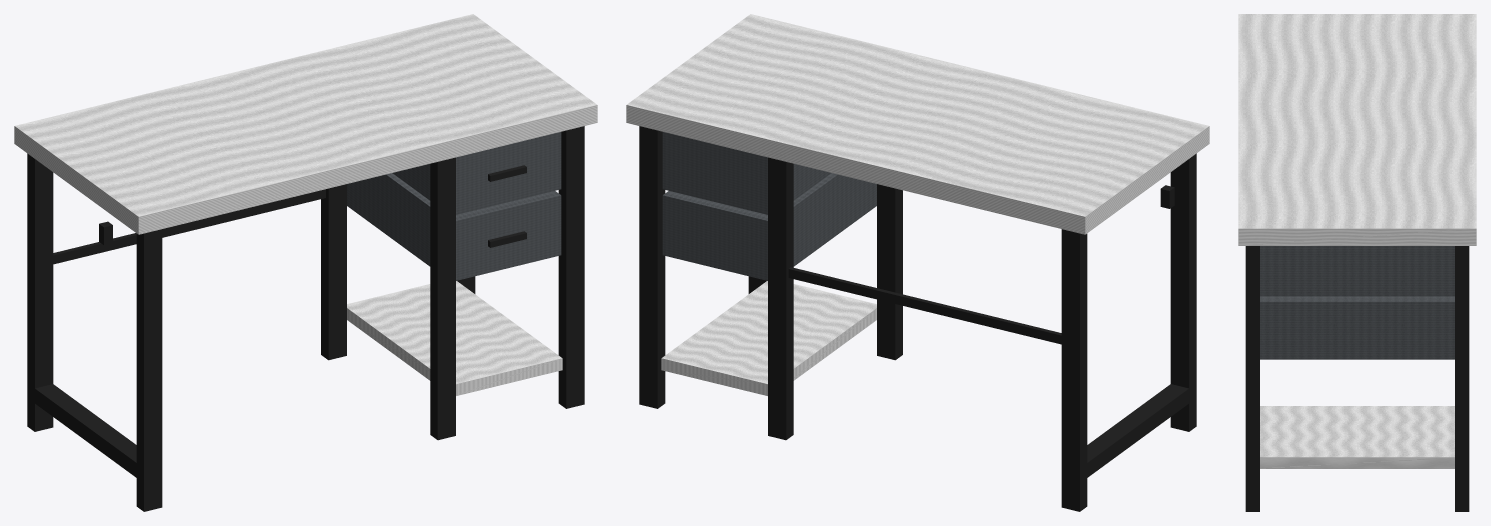
3 renders of one model, left to right at view 1: azimuth 30°, elevation 25°; view 2: azimuth 150°, elevation 25°; view 3: azimuth 270°, elevation 25°, orthographic. The views are drawn at different scales.
Visible parts, largest first — view 1: 1 tabletop, 9 lower_shelf, 11 lower_drawer, 2 left_front_leg, 7 right_inner_front_leg, 5 right_outer_front_leg, 3 left_back_leg, 10 upper_drawer, 8 right_inner_back_leg, 4 left_bottom_bar, 14 back_brace; view 2: 1 tabletop, 9 lower_shelf, 11 lower_drawer, 3 left_back_leg, 8 right_inner_back_leg, 6 right_outer_back_leg, 10 upper_drawer, 2 left_front_leg, 7 right_inner_front_leg, 14 back_brace, 4 left_bottom_bar; view 3: 1 tabletop, 11 lower_drawer, 9 lower_shelf, 10 upper_drawer, 5 right_outer_front_leg, 6 right_outer_back_leg.
Boxes of the visible parts, bbox=[...] form: 1 tabletop: bbox=[14, 14, 597, 234]; 9 lower_shelf: bbox=[347, 281, 562, 395]; 11 lower_drawer: bbox=[347, 173, 561, 280]; 2 left_front_leg: bbox=[136, 229, 162, 511]; 7 right_inner_front_leg: bbox=[430, 157, 455, 440]; 5 right_outer_front_leg: bbox=[558, 126, 584, 408]; 3 left_back_leg: bbox=[27, 153, 53, 431]; 10 upper_drawer: bbox=[392, 132, 561, 214]; 8 right_inner_back_leg: bbox=[321, 184, 346, 360]; 4 left_bottom_bar: bbox=[35, 384, 136, 477]; 14 back_brace: bbox=[53, 189, 325, 264]; 1 tabletop: bbox=[626, 14, 1209, 234]; 9 lower_shelf: bbox=[661, 281, 876, 395]; 11 lower_drawer: bbox=[662, 173, 876, 280]; 3 left_back_leg: bbox=[1061, 229, 1087, 511]; 8 right_inner_back_leg: bbox=[768, 157, 793, 440]; 6 right_outer_back_leg: bbox=[639, 126, 665, 408]; 10 upper_drawer: bbox=[662, 132, 831, 214]; 2 left_front_leg: bbox=[1170, 153, 1196, 431]; 7 right_inner_front_leg: bbox=[877, 184, 902, 360]; 14 back_brace: bbox=[788, 267, 1061, 344]; 4 left_bottom_bar: bbox=[1087, 384, 1188, 477]; 1 tabletop: bbox=[1238, 14, 1476, 245]; 11 lower_drawer: bbox=[1260, 296, 1454, 359]; 9 lower_shelf: bbox=[1260, 406, 1454, 468]; 10 upper_drawer: bbox=[1260, 246, 1454, 296]; 5 right_outer_front_leg: bbox=[1245, 246, 1259, 511]; 6 right_outer_back_leg: bbox=[1455, 246, 1469, 511].
Bounding box in the file's own units: 1.6 × 1 × 0.75.
4 materials, 2 textured.
